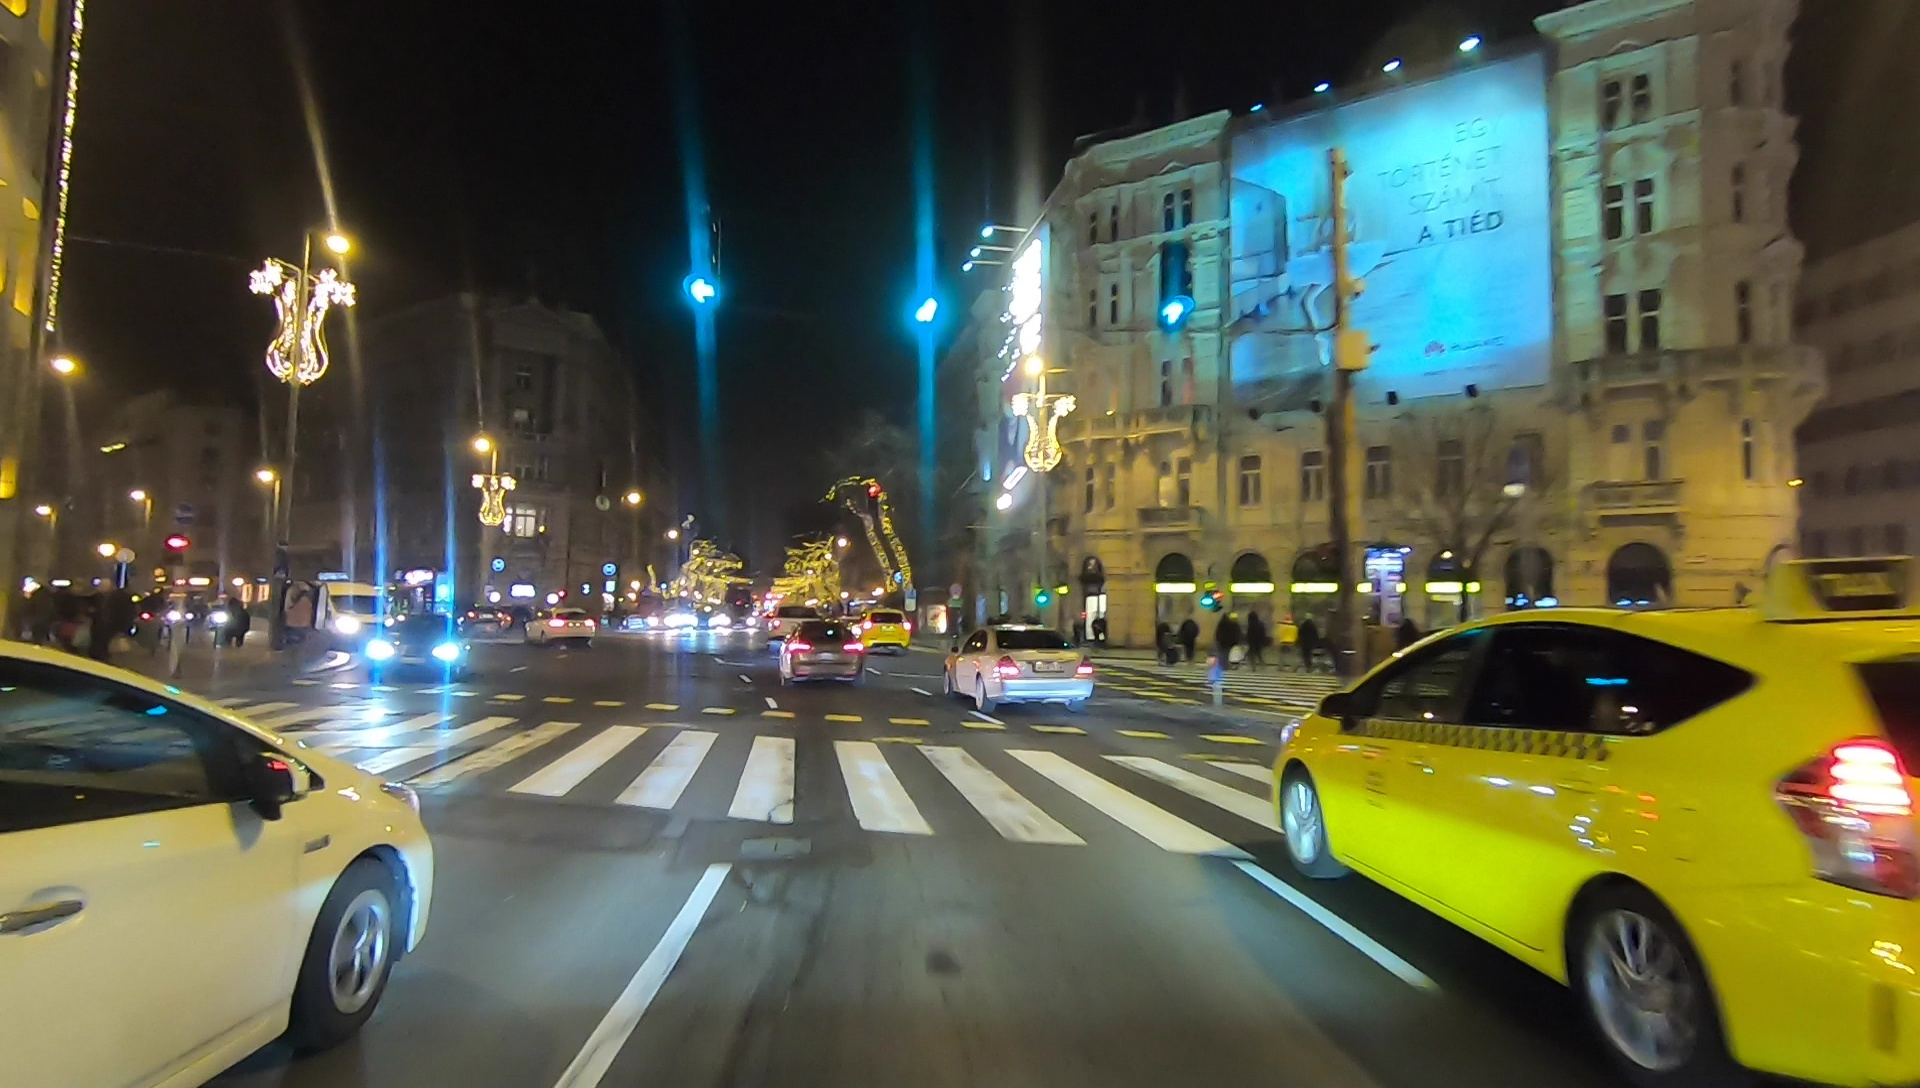person: (1293, 615, 1323, 674), (1214, 610, 1241, 673), (1241, 611, 1265, 674), (1178, 613, 1199, 667), (1154, 619, 1175, 667)
